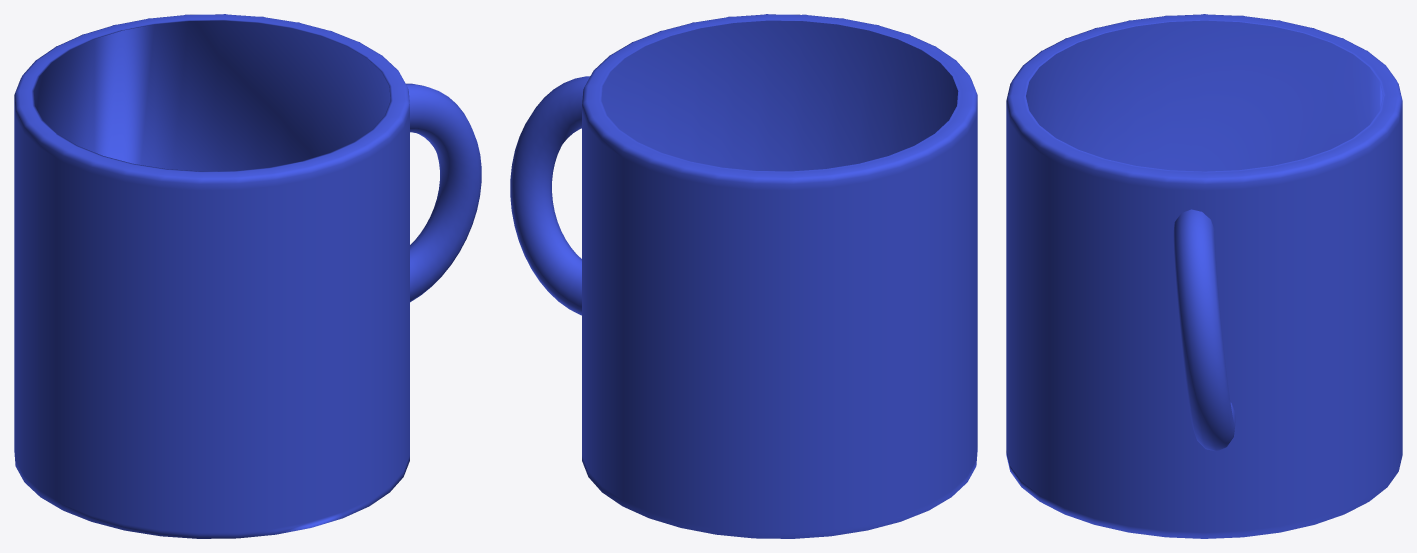
The model's file is cup-transformed.glb.
3 renders of one model, left to right at view 1: azimuth 30°, elevation 25°; view 2: azimuth 150°, elevation 25°; view 3: azimuth 270°, elevation 25°, orthographic.
Visible parts, largest first — view 1: Cup; view 2: Cup; view 3: Cup.
Boxes of the visible parts, <box> form: Cup: <box>14,14,481,538</box>; Cup: <box>510,14,977,538</box>; Cup: <box>1006,14,1402,538</box>.
Bounding box in the file's own units: 2.55 × 2 × 2.
